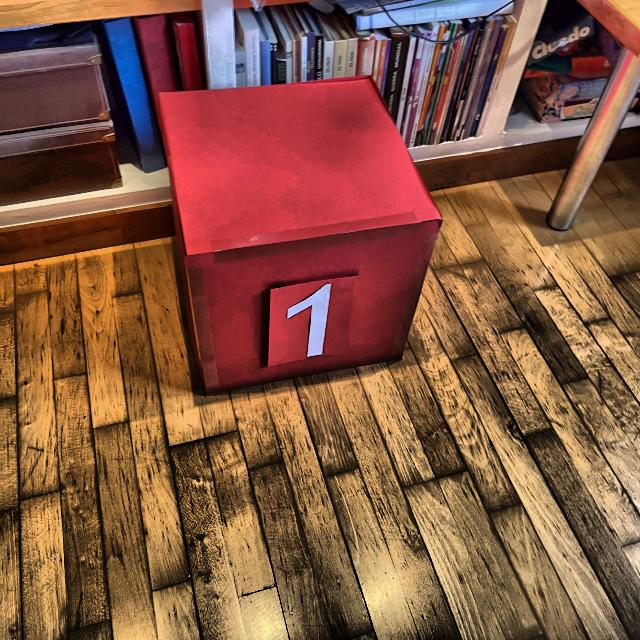one: (288, 283, 333, 358)
red box: (157, 74, 444, 398)
